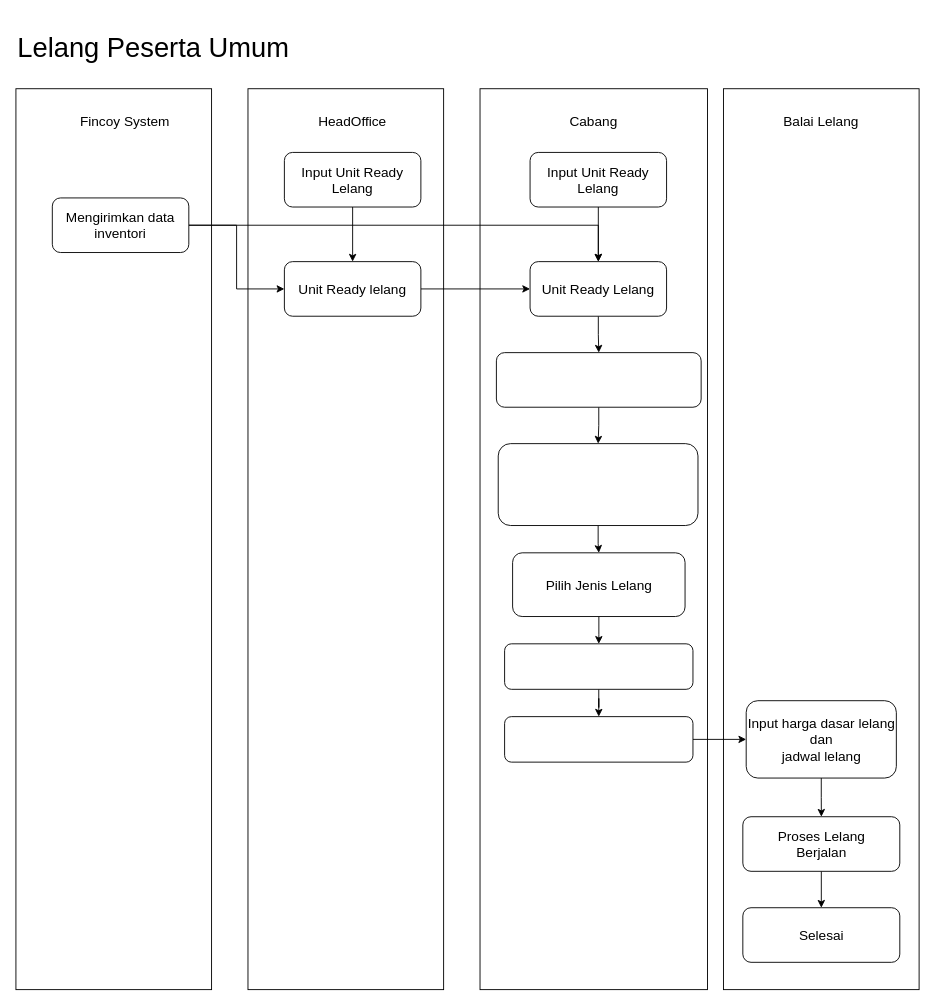
Some shapes in this 935 by 1006 pixel diagram are drawn without their labels. The centre of each missing label's shape, as x and y in pixels:
Input Harga Usulan: (598,739)
Jenis Lelang Peserta Umum: (598,666)
Melengkapi dokumen lelang seperti : bpkb, stnk, foto unit: (598,379)
Pilih Unit Satuan atau Paketan: (597,484)
